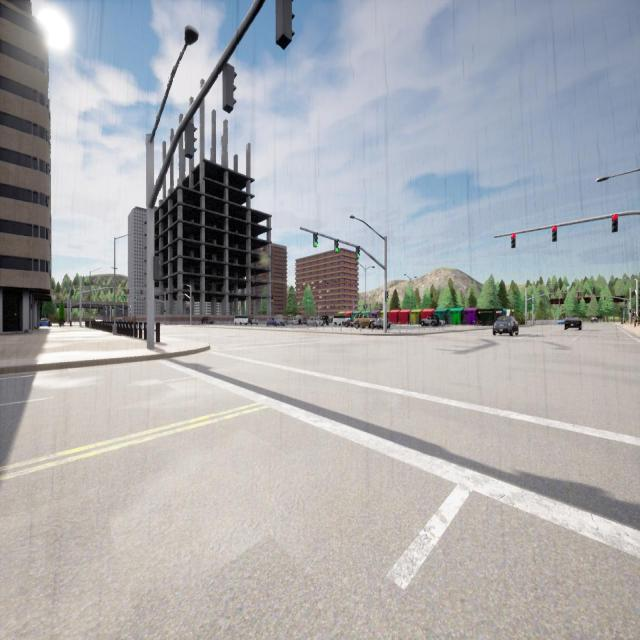Vehicle: (493, 316, 518, 336), (354, 314, 375, 328), (565, 318, 581, 330), (372, 319, 390, 329), (421, 316, 438, 326), (332, 318, 350, 327), (267, 318, 285, 327), (307, 318, 323, 326), (234, 316, 248, 325), (40, 318, 52, 326), (201, 317, 214, 324), (251, 318, 258, 326), (346, 321, 354, 327), (558, 320, 564, 324), (592, 318, 598, 322)
traffic_light: (276, 0, 295, 50), (223, 64, 237, 114), (185, 124, 197, 160), (612, 215, 618, 232), (552, 226, 557, 241), (313, 233, 318, 247), (511, 234, 516, 248), (334, 239, 338, 252), (356, 246, 360, 258), (385, 291, 388, 302), (134, 296, 136, 301), (164, 310, 166, 315), (604, 296, 606, 300), (578, 296, 580, 299), (590, 296, 592, 299), (124, 296, 125, 301), (630, 310, 631, 312)
